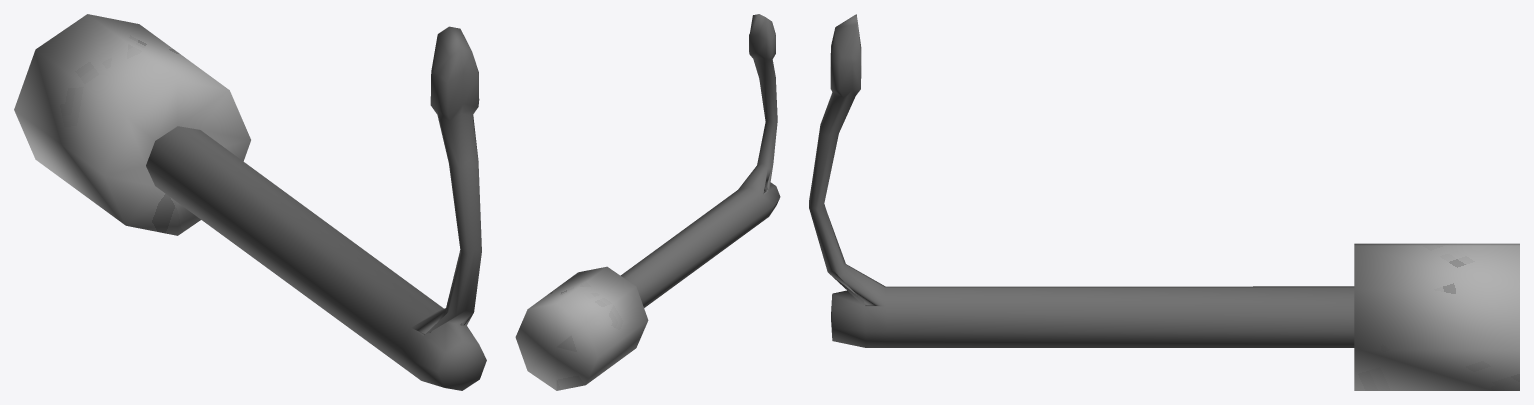
The model's file is lamp_up.fbx.
The picture shows the model from 3 angles, left to right: view 1: azimuth 30°, elevation 25°; view 2: azimuth 150°, elevation 25°; view 3: azimuth 270°, elevation 25°; orthographic projection. The views are drawn at different scales.
Parts seen in each view (by area): view 1: Cylinder01_None, Cylinder01_None.001; view 2: Cylinder01_None.001, Cylinder01_None; view 3: Cylinder01_None, Cylinder01_None.001.
Boxes of the visible parts, <box> form: Cylinder01_None: <box>146,26,486,390</box>; Cylinder01_None.001: <box>14,14,250,235</box>; Cylinder01_None.001: <box>515,266,648,390</box>; Cylinder01_None: <box>620,14,780,307</box>; Cylinder01_None: <box>809,14,1354,347</box>; Cylinder01_None.001: <box>1354,243,1519,390</box>.
Size of the model in its own units: 58.2 by 154 by 266.
2 materials, 2 textured.
